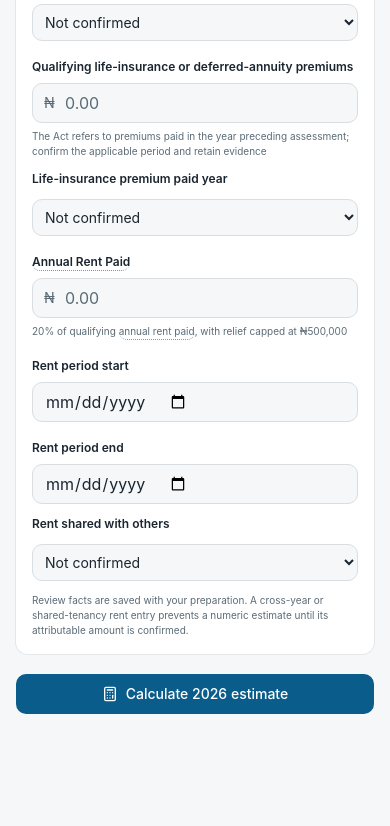
Scenario: TaxCalculator glossary integration › explains that income is required without showing a false estimate
This screenshot has width=390, height=826.
(page scrolled)
Click the button "Calculate 2026 estimate" at coordinates (195, 694), box [16, 674, 374, 714]
(page scrolled)
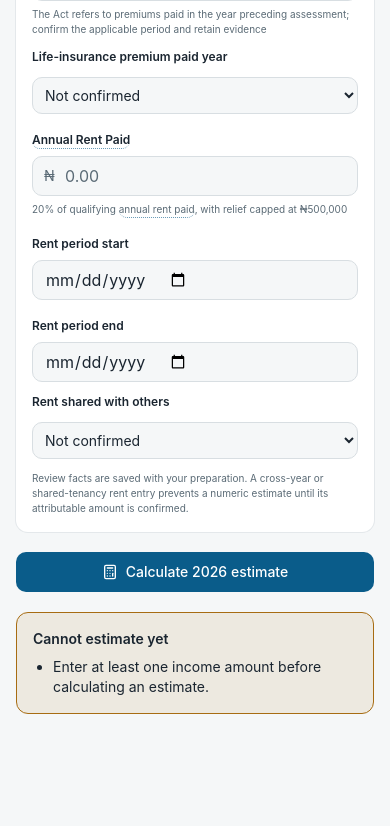
Now the message shows "Enter at least one income amount", box [53, 658, 321, 694]
